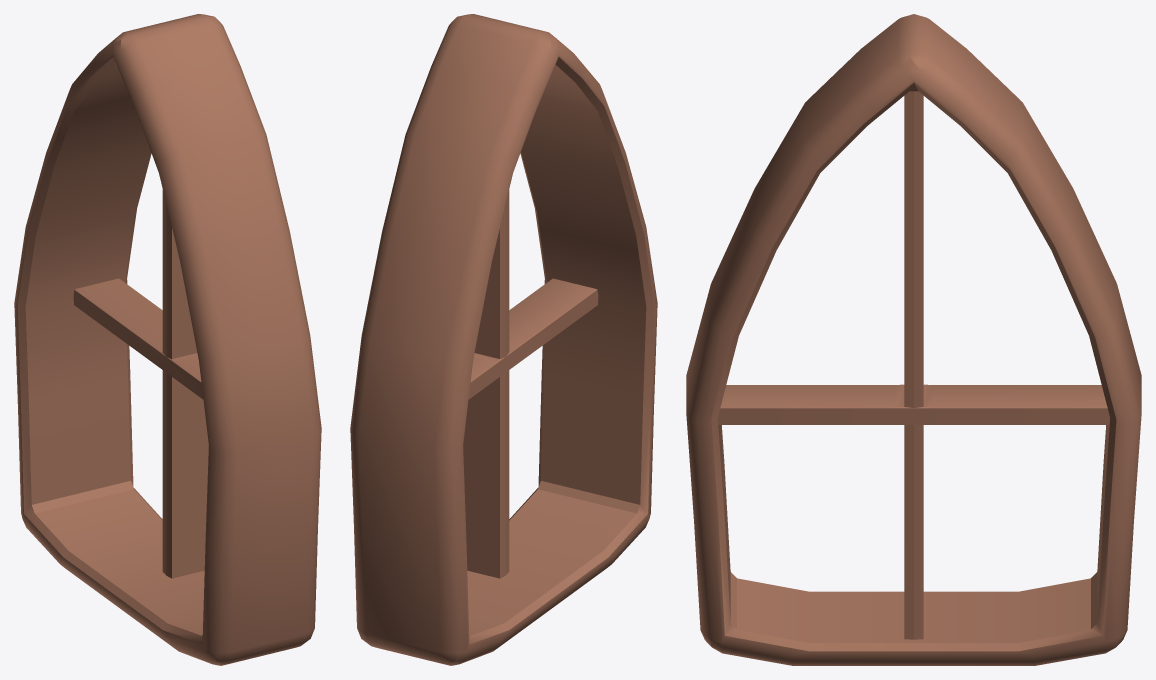
The model's file is WindowFrame.dae.
3 renders of one model, left to right at view 1: azimuth 30°, elevation 25°; view 2: azimuth 150°, elevation 25°; view 3: azimuth 270°, elevation 25°, orthographic. The views are drawn at different scales.
Visible parts, largest first — view 1: WindowFrame; view 2: WindowFrame; view 3: WindowFrame.
Boxes of the visible parts, x1,y1,x2,y2 form: WindowFrame: [14, 14, 321, 665]; WindowFrame: [350, 14, 657, 665]; WindowFrame: [686, 14, 1141, 665].
Size of the model in its own units: 0.9723 by 3.31 by 4.9.
Materials: 1 (1 with a texture image).
